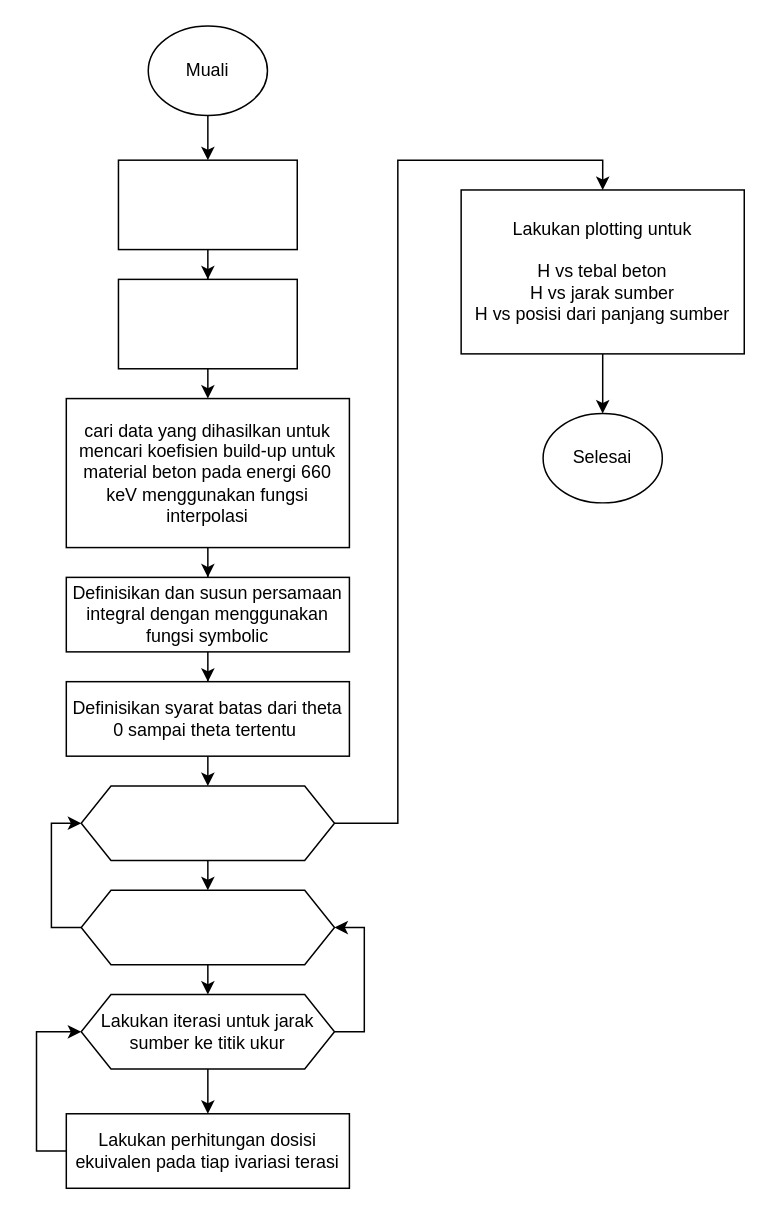
Some shapes in this 770 by 1214 pixel diagram are drawn without their labels. Each missing label, with the centre of its shape:
Baca data-data yang ada di excel: the point at 207,323
Definisikan parameter yang diketahui: the point at 207,204
lakukan iterasi pada ketebalan perisai: the point at 207,822
Lakukan iterasi untuk panjang sumber L: the point at 207,927
